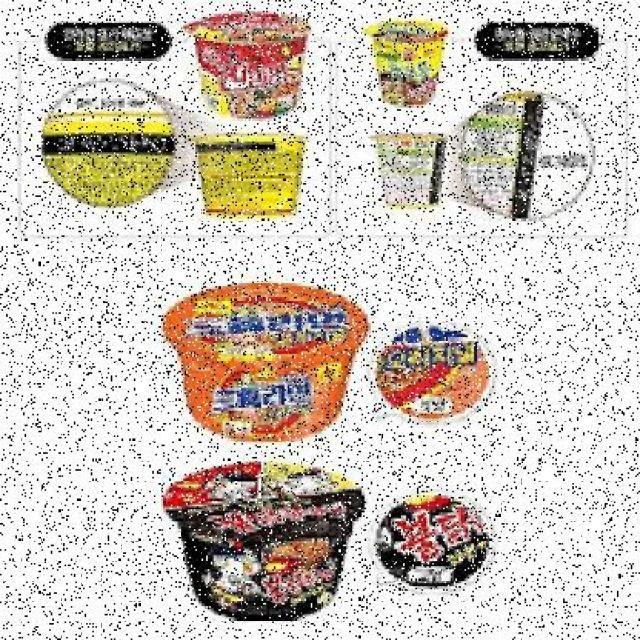Miscellaneous: (170, 458, 373, 617), (162, 279, 353, 447), (190, 10, 318, 118), (186, 126, 320, 220), (356, 119, 458, 218), (369, 13, 443, 110)
